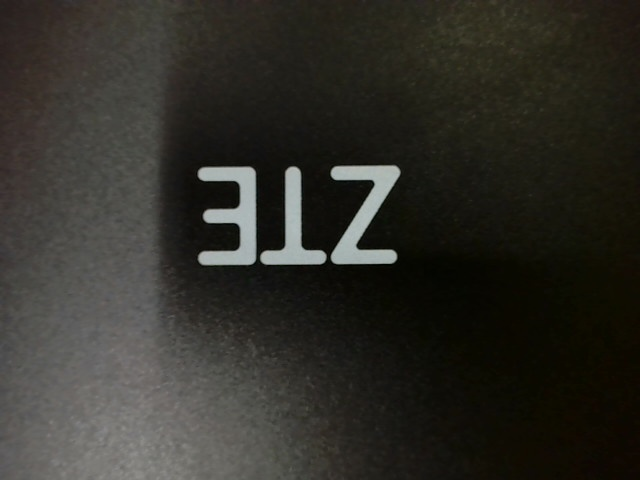AN_ZTE: (185, 158, 418, 284)
